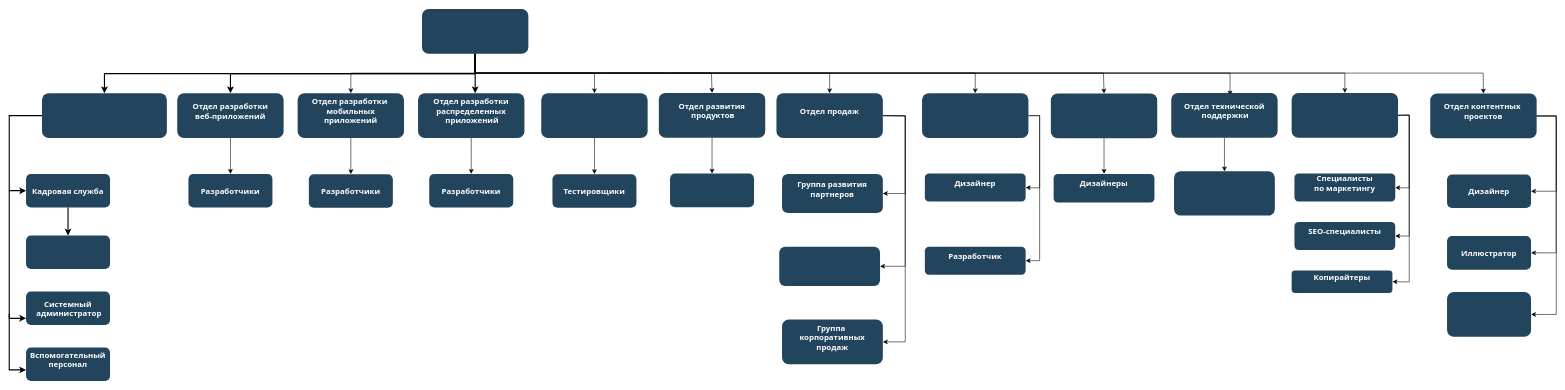
This 1565x390 diagram has some shape labels left out. Here are the shapes that lost their labels. From the top down, the centre of each, then its label:
At [475,31]: "Директор".
At [104,115]: "Отдел административно- управленческого персонала".
At [594,115]: "Отдел контроля качества".
At [975,115]: "Отдел разработки курсов".
At [1104,115]: "Отдел дизайна".
At [1344,115]: "Отдел маркетинга".
At [712,190]: "Продуктовый аналитик".
At [1224,193]: "Специалисты технической поддержки".
At [68,252]: "Специалист по кадрам".
At [829,266]: "Группа по работе с ключевыми клиентами".
At [1489,314]: "Менеджер контентных проектов".
